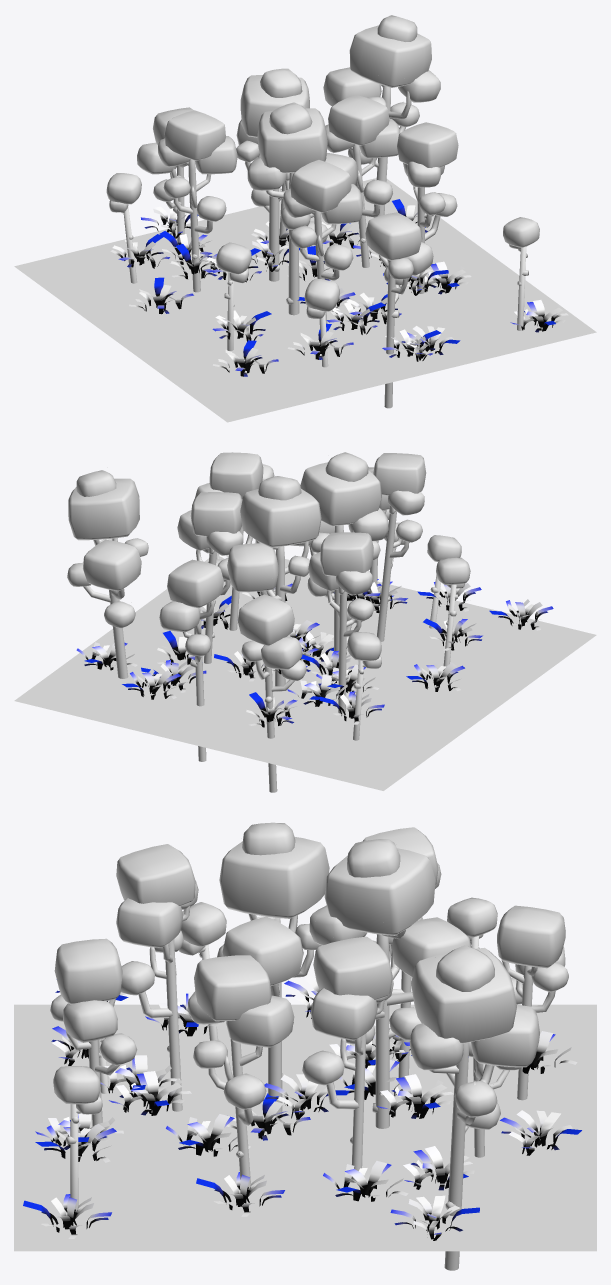
The model's file is TILE_FOREST_CUBE.fbx.
The picture shows the model from 3 angles, top to bottom: view 1: azimuth 30°, elevation 25°; view 2: azimuth 150°, elevation 25°; view 3: azimuth 270°, elevation 25°; orthographic projection. The views are drawn at different scales.
Parts seen in each view (by area): view 1: FLOOR.006, !Env_Grass_Square_SingleSided.038, Village_Env_Tree_03_Trunk.001, Village_Env_Tree_03_Trunk, Village_Env_Tree_04_Trunk, Village_Env_Tree_04_Trunk.001, Village_Env_Tree_04_Trunk.002, Village_Env_Tree_03_Trunk.002, Village_Env_Tree_04_Trunk.003, Village_Env_Tree_02_Trunk, Village_Env_Tree_02_Trunk.002, Village_Env_Tree_01_Trunk.001 (+4 smaller); view 2: FLOOR.006, !Env_Grass_Square_SingleSided.038, Village_Env_Tree_03_Trunk.001, Village_Env_Tree_03_Trunk.002, Village_Env_Tree_03_Trunk, Village_Env_Tree_04_Trunk, Village_Env_Tree_02_Trunk.002, Village_Env_Tree_04_Trunk.001, Village_Env_Tree_02_Trunk.001, Village_Env_Tree_04_Trunk.002, Village_Env_Tree_04_Trunk.003, Village_Env_Tree_01_Trunk.001 (+2 smaller); view 3: FLOOR.006, !Env_Grass_Square_SingleSided.038, Village_Env_Tree_03_Trunk.001, Village_Env_Tree_03_Trunk.002, Village_Env_Tree_03_Trunk, Village_Env_Tree_04_Trunk.003, Village_Env_Tree_04_Trunk.001, Village_Env_Tree_04_Trunk.002, Village_Env_Tree_02_Trunk, Village_Env_Tree_02_Trunk.002, Village_Env_Tree_01_Trunk, Village_Env_Tree_01_Trunk.003 (+4 smaller).
Part boxes in pixels (x1,y1,x2,y2): FLOOR.006: (14,178,596,422); !Env_Grass_Square_SingleSided.038: (110,188,568,376); Village_Env_Tree_03_Trunk.001: (323,15,440,217); Village_Env_Tree_03_Trunk: (247,102,358,315); Village_Env_Tree_04_Trunk: (158,110,237,292); Village_Env_Tree_04_Trunk.001: (283,160,363,328); Village_Env_Tree_04_Trunk.002: (325,95,400,267); Village_Env_Tree_03_Trunk.002: (236,68,309,281); Village_Env_Tree_04_Trunk.003: (397,122,458,293); Village_Env_Tree_02_Trunk: (365,212,433,408); Village_Env_Tree_02_Trunk.002: (137,107,193,253); Village_Env_Tree_01_Trunk.001: (106,173,141,283); FLOOR.006: (14,555,596,790); !Env_Grass_Square_SingleSided.038: (76,554,553,727); Village_Env_Tree_03_Trunk.001: (67,470,148,678); Village_Env_Tree_03_Trunk.002: (227,476,321,691); Village_Env_Tree_03_Trunk: (300,452,388,661); Village_Env_Tree_04_Trunk: (308,532,374,713); Village_Env_Tree_02_Trunk.002: (237,594,306,792); Village_Env_Tree_04_Trunk.001: (370,453,426,641); Village_Env_Tree_02_Trunk.001: (159,559,223,761); Village_Env_Tree_04_Trunk.002: (177,492,243,663); Village_Env_Tree_04_Trunk.003: (195,452,264,630); Village_Env_Tree_01_Trunk.001: (347,632,381,740); FLOOR.006: (14,1004,596,1251); !Env_Grass_Square_SingleSided.038: (23,974,581,1240); Village_Env_Tree_03_Trunk.001: (410,945,539,1270); Village_Env_Tree_03_Trunk.002: (309,839,471,1128); Village_Env_Tree_03_Trunk: (217,822,329,1115); Village_Env_Tree_04_Trunk.003: (188,955,294,1189); Village_Env_Tree_04_Trunk.001: (116,844,198,1111); Village_Env_Tree_04_Trunk.002: (302,936,393,1182); Village_Env_Tree_02_Trunk: (50,938,137,1135); Village_Env_Tree_02_Trunk.002: (497,905,568,1100); Village_Env_Tree_01_Trunk: (53,1066,102,1211); Village_Env_Tree_01_Trunk.003: (178,902,226,1040).
Bounding box in the file's own units: 200 × 136 × 200.
